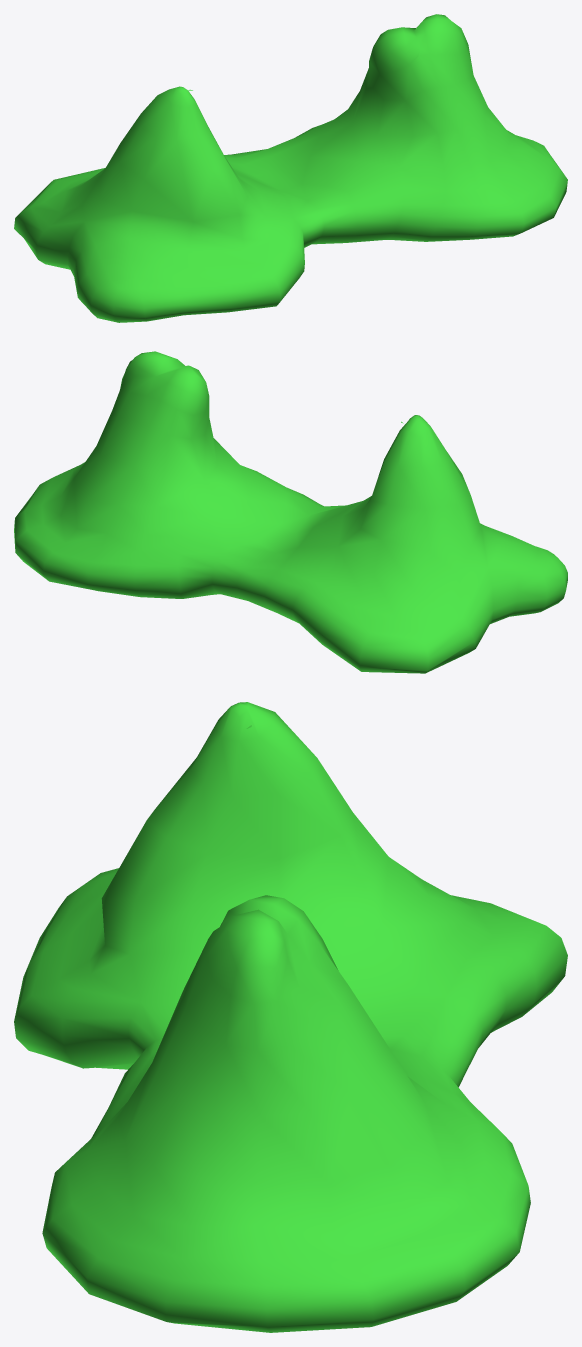
File: muco2.fbx
The picture shows the model from 3 angles, top to bottom: view 1: azimuth 30°, elevation 25°; view 2: azimuth 150°, elevation 25°; view 3: azimuth 270°, elevation 25°; orthographic projection. The views are drawn at different scales.
Visible parts, largest first — view 1: Retopo_Vert.001; view 2: Retopo_Vert.001; view 3: Retopo_Vert.001.
Boxes of the visible parts, left/top/right/bottom form: Retopo_Vert.001: left=14, top=14, right=567, bottom=322; Retopo_Vert.001: left=14, top=351, right=567, bottom=673; Retopo_Vert.001: left=14, top=702, right=567, bottom=1332.
Size of the model in its own units: 579 by 215 by 322.
